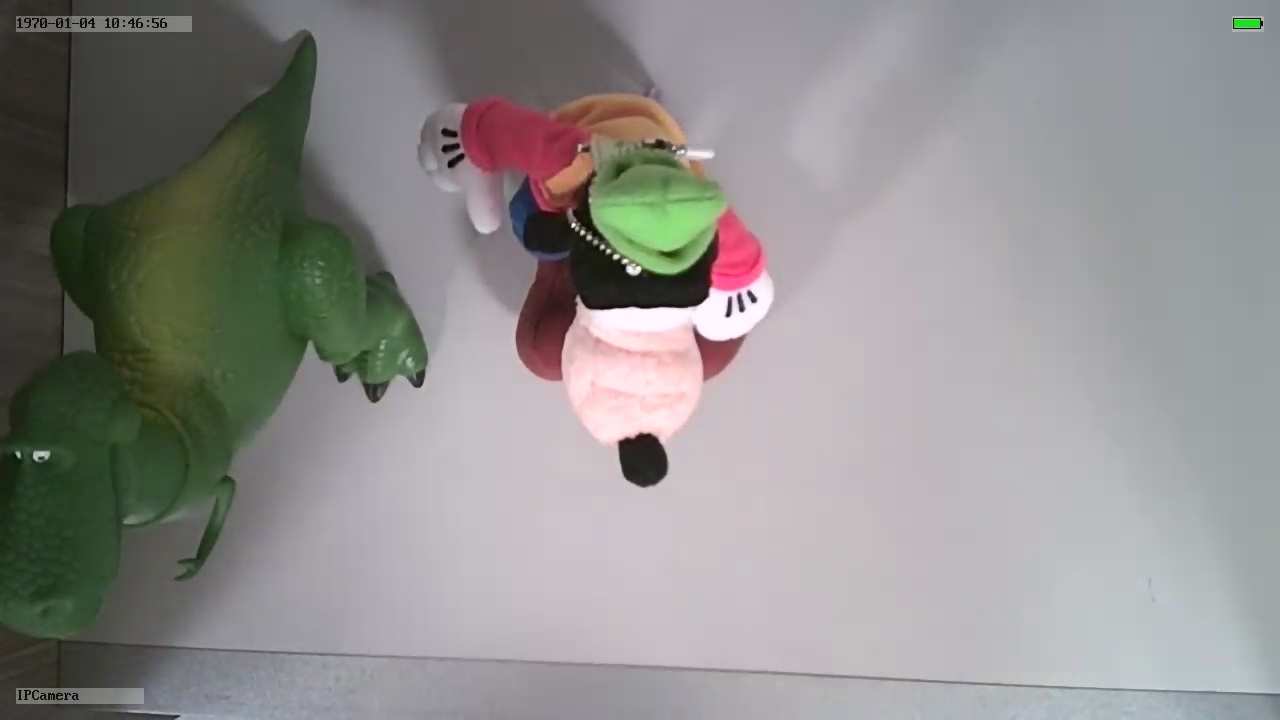goofy: (415, 92, 779, 490)
rex: (1, 121, 427, 639)
